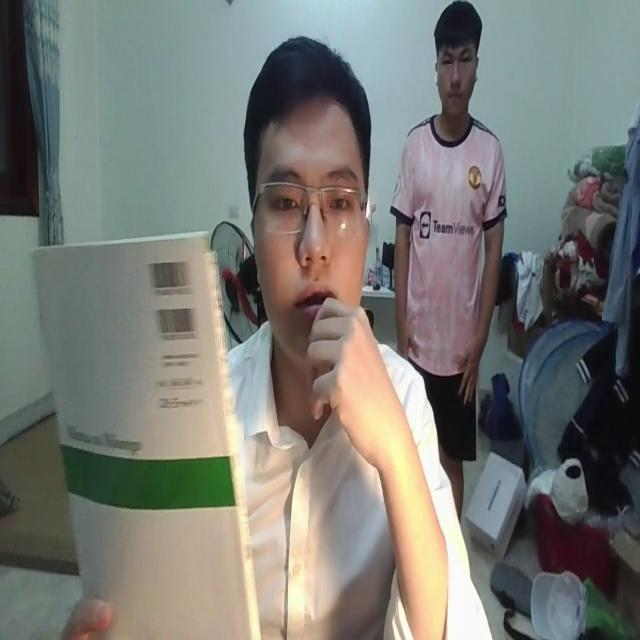book: (28, 222, 266, 640)
extra_person: (393, 0, 510, 512)
student: (223, 33, 488, 640)
